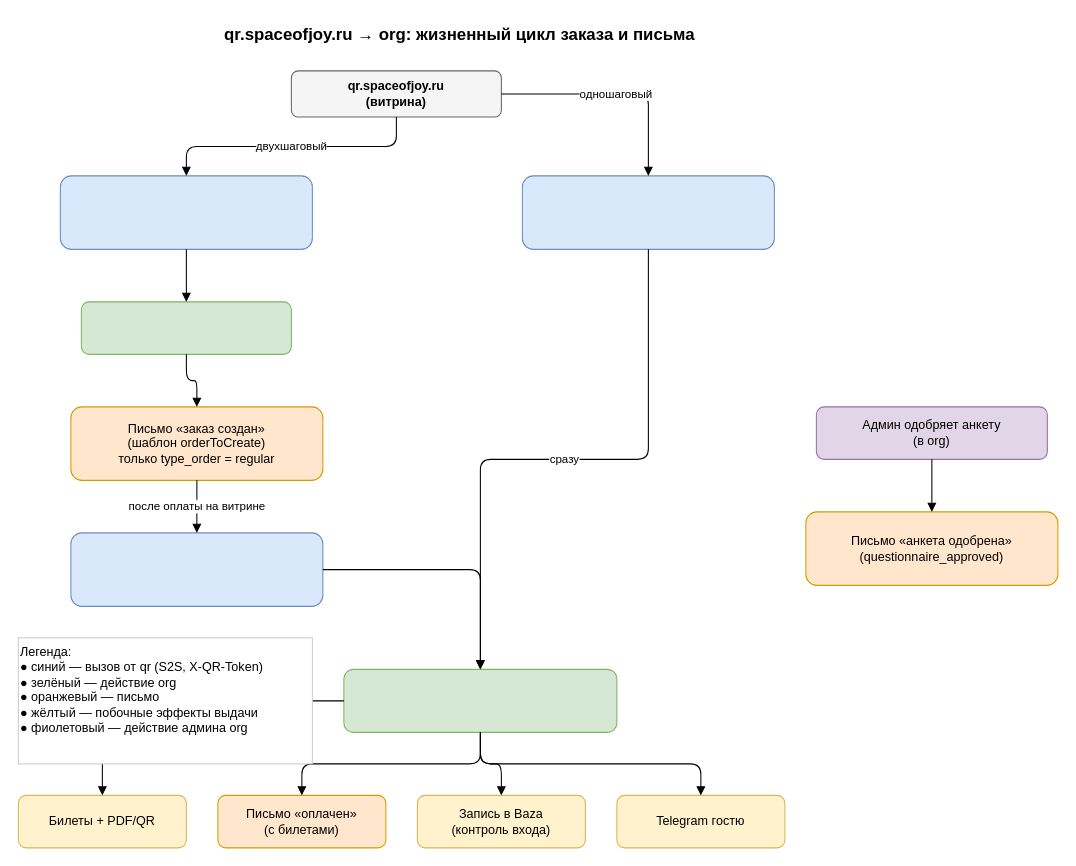
The diagram is 1076 pixels wide and 866 high, and some of its shapes have lost their labels. Here are the shapes that lost their labels. From the top down, the box of each, then its label:
(59, 175, 312, 249): POST /qrOrder/create status = «создан» (X-QR-Token)
(521, 175, 774, 249): POST /qrOrder/create status = «оплачен» (X-QR-Token)
(80, 301, 291, 354): org: заказ сохранён (таблица qr_orders)
(70, 532, 323, 606): POST /qrOrder/changeStatus/{id} status = «оплачен» (X-QR-Token)
(343, 668, 617, 732): org: выдача билетов один раз (защита issued_at)
